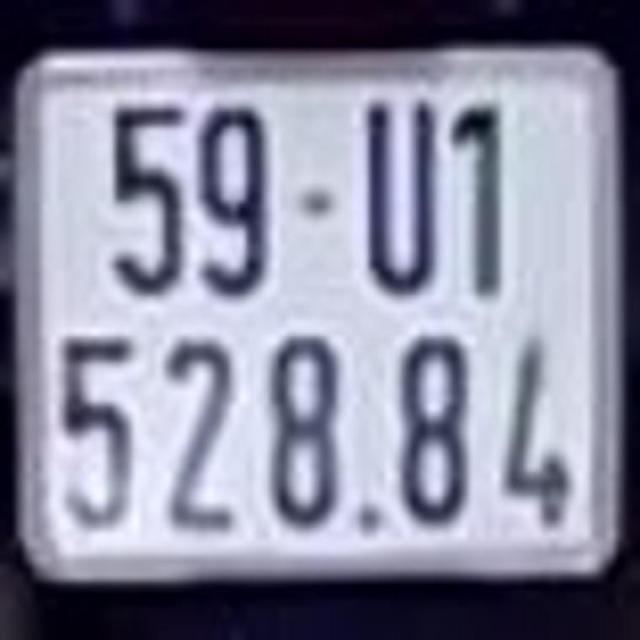1: (446, 90, 530, 298)
2: (153, 319, 239, 526)
4: (500, 310, 580, 532)
5: (98, 83, 190, 296), (47, 324, 141, 530)
8: (258, 315, 348, 535), (392, 316, 484, 524)
9: (196, 92, 280, 294)
U: (357, 78, 443, 296)
